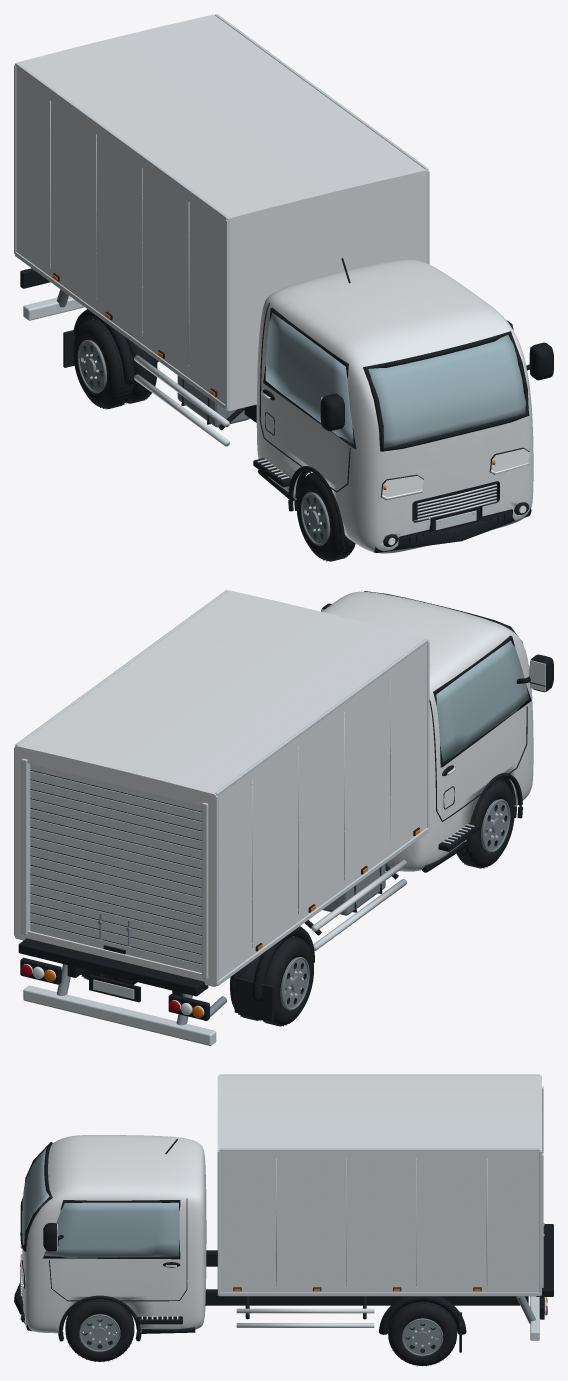
The model's file is hauler.fbx.
3 views of the same model, one above another, from view 1: azimuth 30°, elevation 25°; view 2: azimuth 150°, elevation 25°; view 3: azimuth 270°, elevation 25° (orthographic). The views are drawn at different scales.
Visible parts, largest first — view 1: Body, Wheel_RL, Wheel_FL, Damage_Front_Bumper; view 2: Body, Wheel_RL, Wheel_FL; view 3: Body, Wheel_RR, Wheel_FR.
Part boxes in pixels (x1=…): Body: x1=14, y1=14, x2=553, y2=553; Wheel_RL: x1=73, y1=319, x2=157, y2=409; Wheel_FL: x1=296, y1=473, x2=355, y2=561; Damage_Front_Bumper: x1=373, y1=507, x2=531, y2=552; Body: x1=14, y1=590, x2=553, y2=1045; Wheel_RL: x1=230, y1=936, x2=313, y2=1026; Wheel_FL: x1=456, y1=779, x2=514, y2=868; Body: x1=20, y1=1074, x2=553, y2=1354; Wheel_RR: x1=388, y1=1296, x2=456, y2=1366; Wheel_FR: x1=65, y1=1299, x2=134, y2=1361.
Size of the model in its own units: 2.73 by 3.31 by 7.38.
